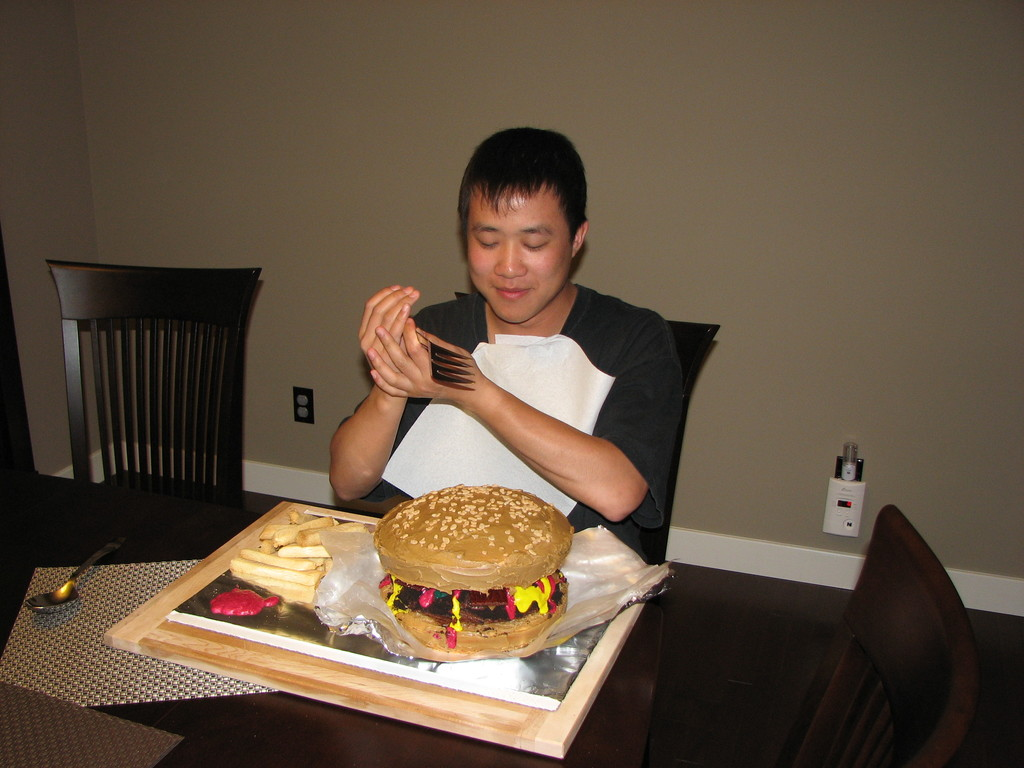cake: (371, 484, 578, 653)
